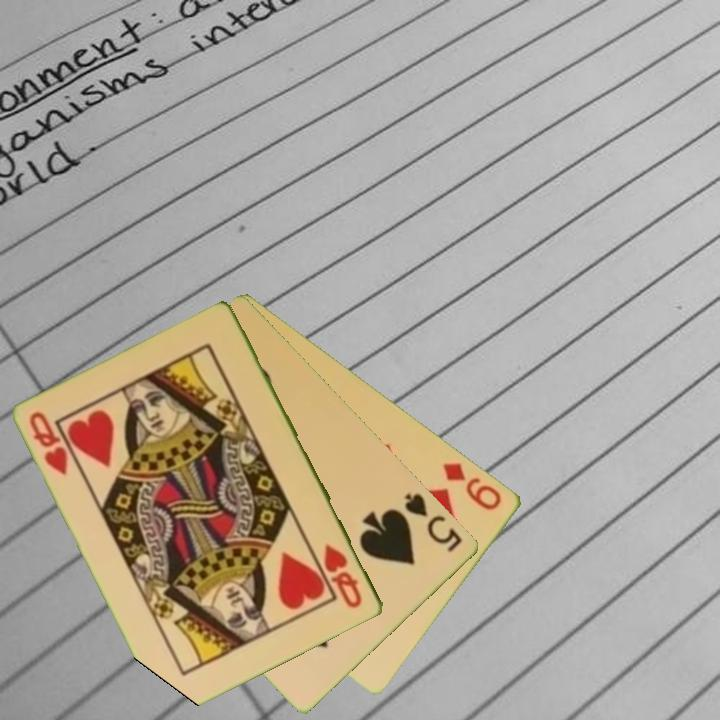5s: (401, 489, 466, 556)
9d: (440, 459, 505, 514)
Qh: (320, 540, 366, 612), (26, 408, 72, 478)
